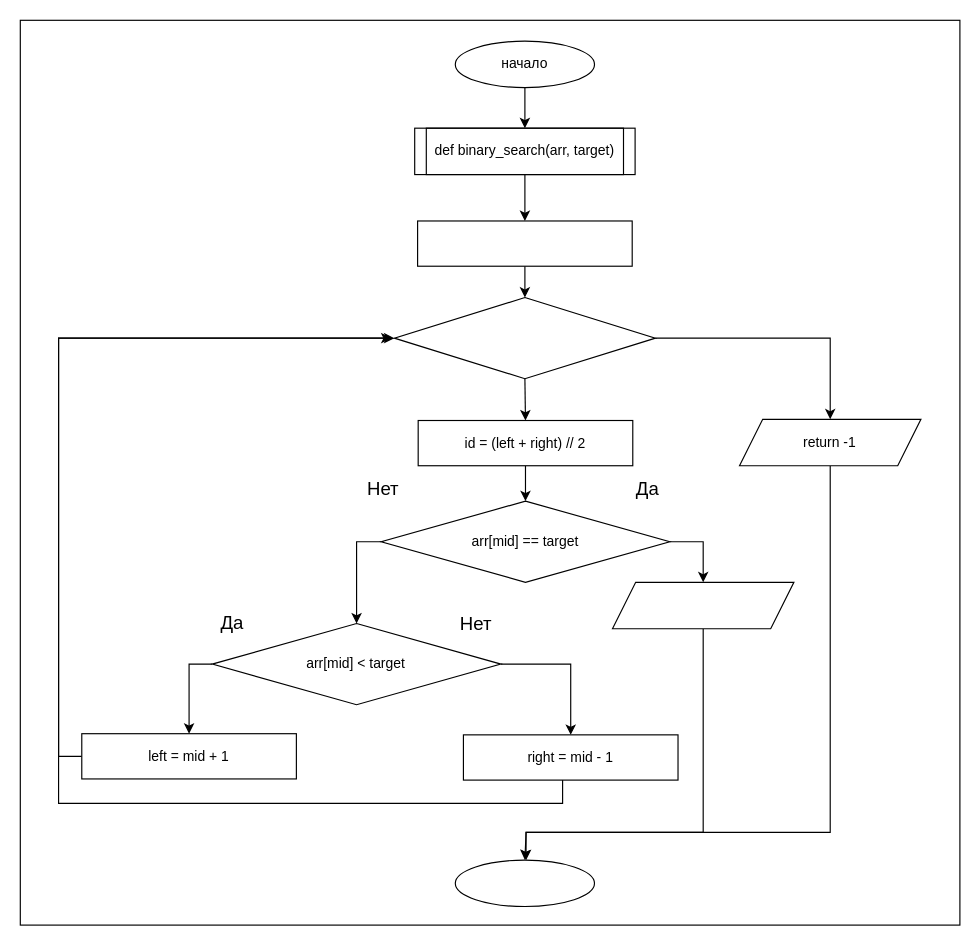
Some shapes in this 980 by 945 pixel diagram are drawn without their labels. Here are the shapes that lost their labels. From the top down, the centre of each, then its label:
At (524,243): "left, right = 0, len(arr) - 1".
At (524,337): "while left <= right".
At (702,605): "return mid".
At (524,883): "конец".
